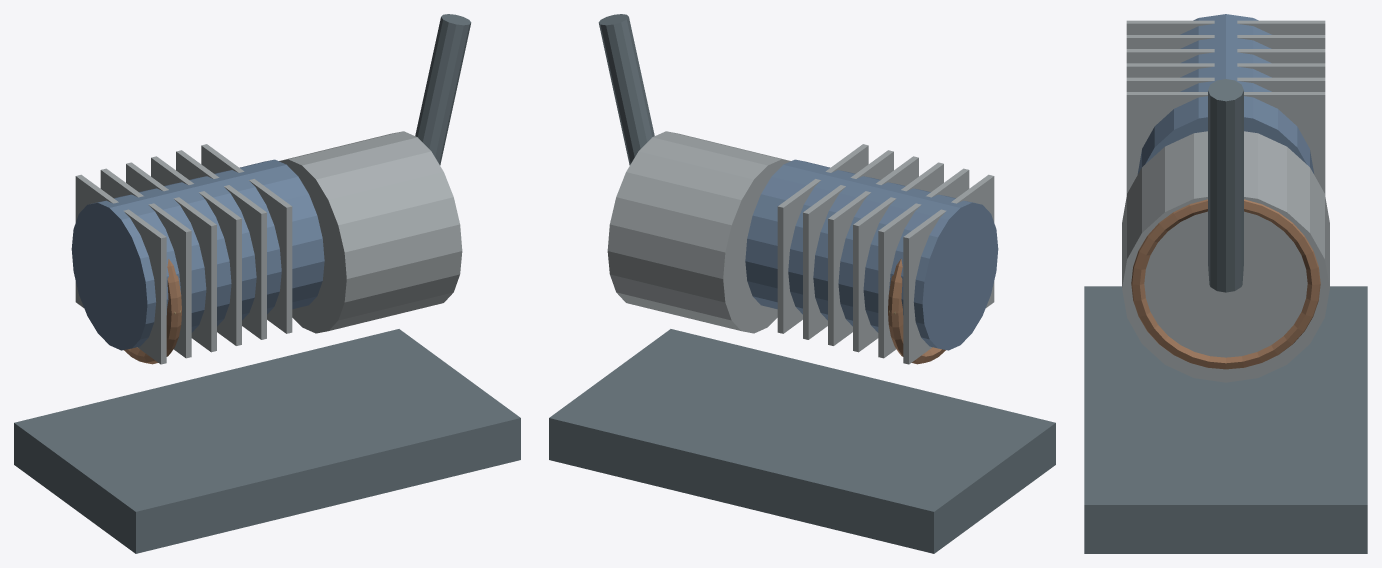
3 views of the same model, side by side, from view 1: azimuth 30°, elevation 25°; view 2: azimuth 150°, elevation 25°; view 3: azimuth 270°, elevation 25° (orthographic). The views are drawn at different scales.
Parts seen in each view (by area): view 1: A050__darksteel__v2_000__Pump_skid_base, A050__steel__v2_002__Pump_volute_housing, A050__blue__v2_001__Electric_pump_motor, A050__darksteel__v2_027__Water_discharge_pipe, A050__steel__v2_021__Motor_cooling_fin, A050__steel__v2_026__Motor_cooling_fin, A050__steel__v2_023__Motor_cooling_fin, A050__steel__v2_024__Motor_cooling_fin, A050__steel__v2_025__Motor_cooling_fin, A050__steel__v2_022__Motor_cooling_fin, A050__rust__v2_003__Gasket_flange; view 2: A050__darksteel__v2_000__Pump_skid_base, A050__steel__v2_002__Pump_volute_housing, A050__blue__v2_001__Electric_pump_motor, A050__darksteel__v2_027__Water_discharge_pipe, A050__steel__v2_021__Motor_cooling_fin, A050__steel__v2_026__Motor_cooling_fin, A050__steel__v2_023__Motor_cooling_fin, A050__steel__v2_024__Motor_cooling_fin, A050__steel__v2_025__Motor_cooling_fin, A050__steel__v2_022__Motor_cooling_fin, A050__rust__v2_003__Gasket_flange; view 3: A050__darksteel__v2_000__Pump_skid_base, A050__steel__v2_002__Pump_volute_housing, A050__blue__v2_001__Electric_pump_motor, A050__darksteel__v2_027__Water_discharge_pipe, A050__rust__v2_012__Gasket_flange, A050__steel__v2_026__Motor_cooling_fin, A050__steel__v2_025__Motor_cooling_fin, A050__steel__v2_021__Motor_cooling_fin, A050__steel__v2_024__Motor_cooling_fin, A050__steel__v2_023__Motor_cooling_fin, A050__steel__v2_022__Motor_cooling_fin.
Part boxes in pixels (<box>): A050__darksteel__v2_000__Pump_skid_base: <box>14,329,520,553</box>; A050__steel__v2_002__Pump_volute_housing: <box>279,131,462,333</box>; A050__blue__v2_001__Electric_pump_motor: <box>71,159,324,350</box>; A050__darksteel__v2_027__Water_discharge_pipe: <box>415,14,471,165</box>; A050__steel__v2_021__Motor_cooling_fin: <box>75,174,166,364</box>; A050__steel__v2_026__Motor_cooling_fin: <box>201,144,292,333</box>; A050__steel__v2_023__Motor_cooling_fin: <box>126,162,216,352</box>; A050__steel__v2_024__Motor_cooling_fin: <box>151,156,241,345</box>; A050__steel__v2_025__Motor_cooling_fin: <box>176,150,266,339</box>; A050__steel__v2_022__Motor_cooling_fin: <box>100,168,191,358</box>; A050__rust__v2_003__Gasket_flange: <box>124,259,181,364</box>; A050__darksteel__v2_000__Pump_skid_base: <box>549,329,1055,553</box>; A050__steel__v2_002__Pump_volute_housing: <box>607,131,790,333</box>; A050__blue__v2_001__Electric_pump_motor: <box>745,159,998,350</box>; A050__darksteel__v2_027__Water_discharge_pipe: <box>598,14,654,165</box>; A050__steel__v2_021__Motor_cooling_fin: <box>903,174,994,364</box>; A050__steel__v2_026__Motor_cooling_fin: <box>777,144,868,333</box>; A050__steel__v2_023__Motor_cooling_fin: <box>853,162,943,352</box>; A050__steel__v2_024__Motor_cooling_fin: <box>828,156,918,345</box>; A050__steel__v2_025__Motor_cooling_fin: <box>803,150,893,339</box>; A050__steel__v2_022__Motor_cooling_fin: <box>878,168,969,358</box>; A050__rust__v2_003__Gasket_flange: <box>888,259,945,364</box>; A050__darksteel__v2_000__Pump_skid_base: <box>1084,286,1367,553</box>; A050__steel__v2_002__Pump_volute_housing: <box>1122,131,1329,382</box>; A050__blue__v2_001__Electric_pump_motor: <box>1137,14,1314,174</box>; A050__darksteel__v2_027__Water_discharge_pipe: <box>1208,79,1243,292</box>; A050__rust__v2_012__Gasket_flange: <box>1131,199,1320,369</box>; A050__steel__v2_026__Motor_cooling_fin: <box>1126,92,1325,194</box>; A050__steel__v2_025__Motor_cooling_fin: <box>1126,77,1325,91</box>; A050__steel__v2_021__Motor_cooling_fin: <box>1126,20,1325,34</box>; A050__steel__v2_024__Motor_cooling_fin: <box>1126,63,1325,77</box>; A050__steel__v2_023__Motor_cooling_fin: <box>1126,49,1325,63</box>; A050__steel__v2_022__Motor_cooling_fin: <box>1126,35,1325,48</box>.
Size of the model in its own units: 1.18 by 1.14 by 0.63.
